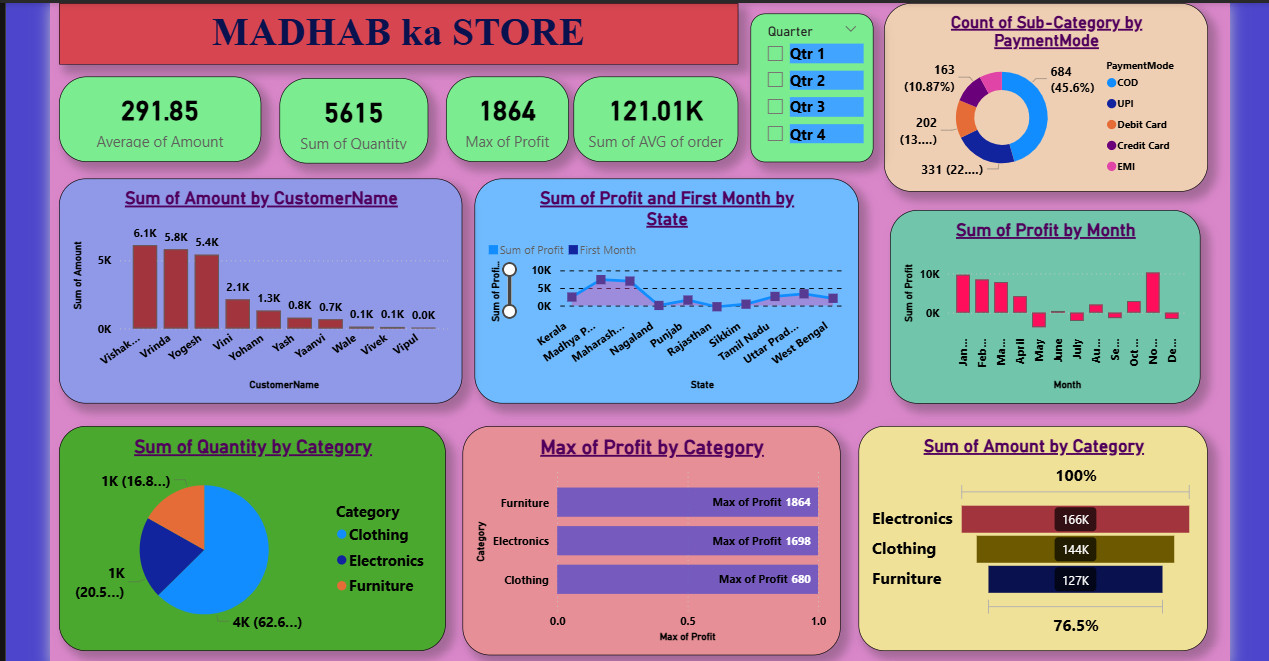

What the dashboard file says about the page in this screenshot:
{"tool":"powerbi","page":{"name":"Page 1","canvas":[1280,720],"ordinal":0},"visuals":[{"type":"textbox","box":[9.8,0,736.8,66.7],"z":0},{"type":"clusteredBarChart","fields":{"Category":["Details.Category"],"Y":["Max(Details.Profit)"]},"box":[447.3,458.7,409.9,248.9],"z":1000},{"type":"pieChart","fields":{"Category":["Details.Category"],"Y":["Sum(Details.Quantity)"]},"box":[9.8,458.7,419.6,244],"z":2000},{"type":"funnel","fields":{"Category":["Details.Category"],"Y":["Sum(Details.Amount)"]},"box":[876.7,458.7,379,244],"z":3000},{"type":"lineChart","fields":{"Category":["Orders.State"],"Y":["Sum(Details.Profit)","Min(Orders.Order Date.Variation.Date Hierarchy.Month)"]},"box":[460.3,190.3,416.4,244],"z":4000},{"type":"donutChart","fields":{"Y":["CountNonNull(Details.Sub-Category)"],"Category":["Details.PaymentMode"]},"box":[904.4,0,351.3,204.9],"z":5000},{"type":"columnChart","fields":{"Category":["Orders.Order Date.Variation.Date Hierarchy.Month"],"Y":["Sum(Details.Profit)"]},"box":[910.9,224.5,336.7,209.8],"z":6000},{"type":"card","fields":{"Values":["Avg(Details.Amount)"]},"box":[9.8,79.7,219.6,92.7],"z":7000},{"type":"card","fields":{"Values":["Sum(Details.Quantity)"]},"box":[248.9,81.3,161,92.7],"z":8000},{"type":"card","fields":{"Values":["Max(Details.Profit)"]},"box":[429.4,79.7,133.4,92.7],"z":9000},{"type":"card","fields":{"Values":["Sum(Details.AVGoforder)"]},"box":[567.7,79.7,178.9,92.7],"z":10000},{"type":"slicer","fields":{"Values":["Orders.Order Date.Variation.Date Hierarchy.Quarter"]},"box":[759.6,11.4,133.4,161],"z":11000},{"type":"columnChart","fields":{"Category":["Orders.CustomerName"],"Y":["Sum(Details.Amount)"]},"box":[9.8,190.3,437.5,244],"z":12000}]}

Visuals, with their boxes on the page's 1280x720 design canvas (x1, y1, x2, y2). These are canvas units, not pixel positions in the 1269x661 screenshot, which may show the page scaled, cropped or inside an application window:
textbox: <region>10, 0, 747, 67</region>
clusteredBarChart - Details.Category x Max(Details.Profit): <region>447, 459, 857, 708</region>
pieChart - Details.Category x Sum(Details.Quantity): <region>10, 459, 429, 703</region>
funnel - Details.Category x Sum(Details.Amount): <region>877, 459, 1256, 703</region>
lineChart - Orders.State x Sum(Details.Profit): <region>460, 190, 877, 434</region>
donutChart - CountNonNull(Details.Sub-Category) x Details.PaymentMode: <region>904, 0, 1256, 205</region>
columnChart - Orders.Order Date.Variation.Date Hierarchy.Month x Sum(Details.Profit): <region>911, 224, 1248, 434</region>
card - Avg(Details.Amount): <region>10, 80, 229, 172</region>
card - Sum(Details.Quantity): <region>249, 81, 410, 174</region>
card - Max(Details.Profit): <region>429, 80, 563, 172</region>
card - Sum(Details.AVGoforder): <region>568, 80, 747, 172</region>
slicer - Orders.Order Date.Variation.Date Hierarchy.Quarter: <region>760, 11, 893, 172</region>
columnChart - Orders.CustomerName x Sum(Details.Amount): <region>10, 190, 447, 434</region>
